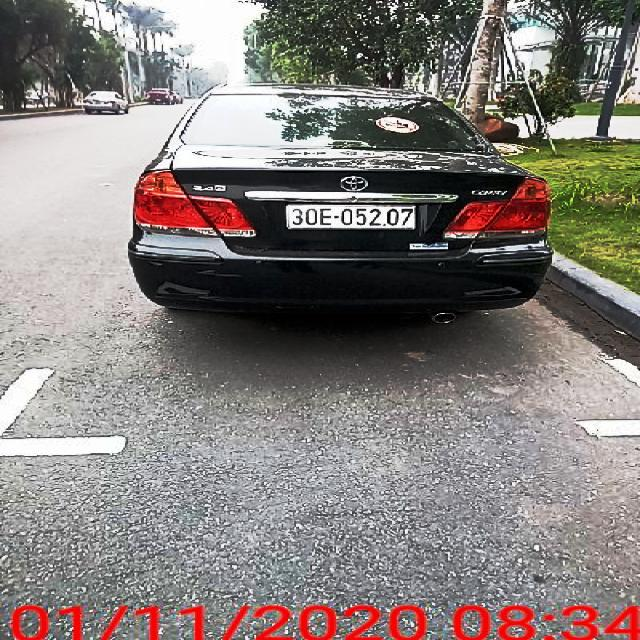license_plate: (286, 205, 419, 232)
